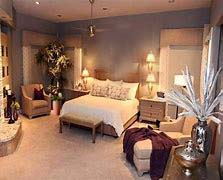copymove: (144, 51, 159, 74)
removal: (95, 39, 137, 78)
spliced: (51, 91, 62, 117)
